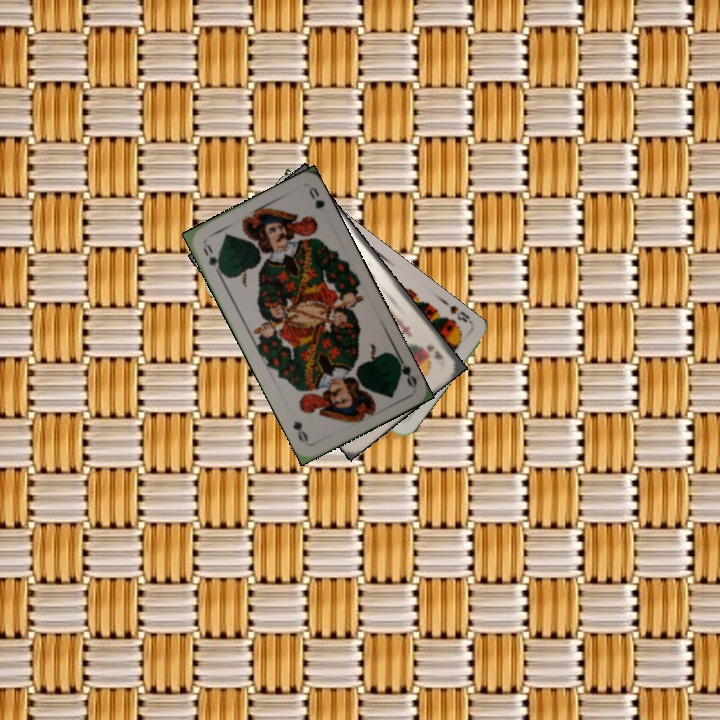GO: (391, 351, 420, 390), (199, 239, 226, 277)
S8: (446, 301, 476, 327)
SK: (422, 340, 446, 362)
